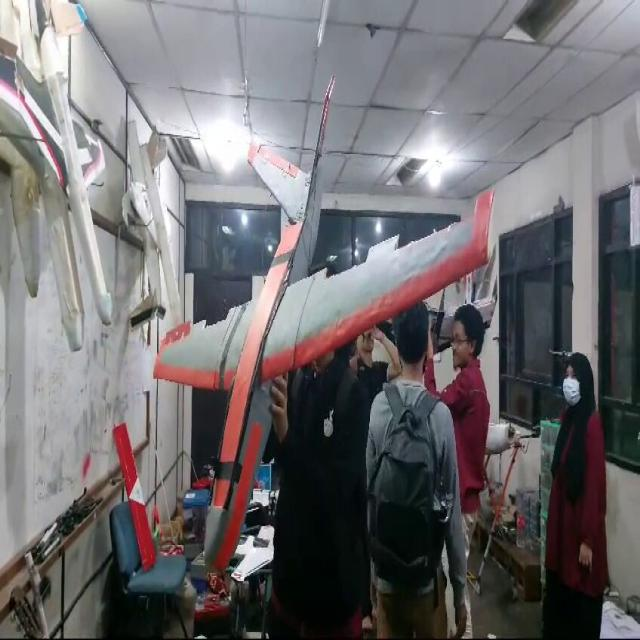plane: (151, 72, 497, 578)
